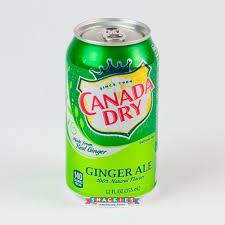Lata: (61, 13, 162, 212)
